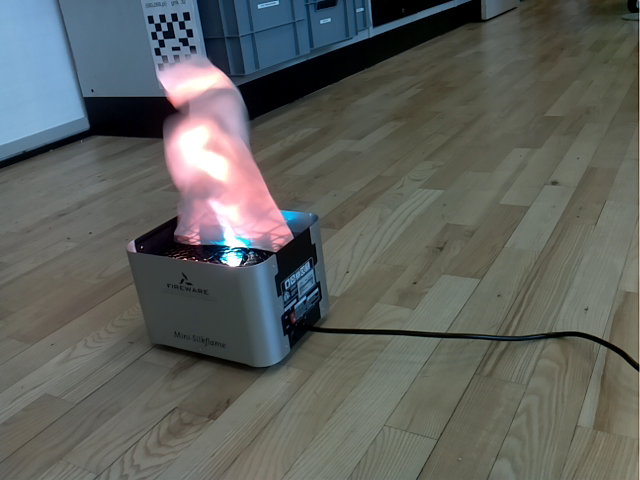fire: (155, 54, 293, 252)
